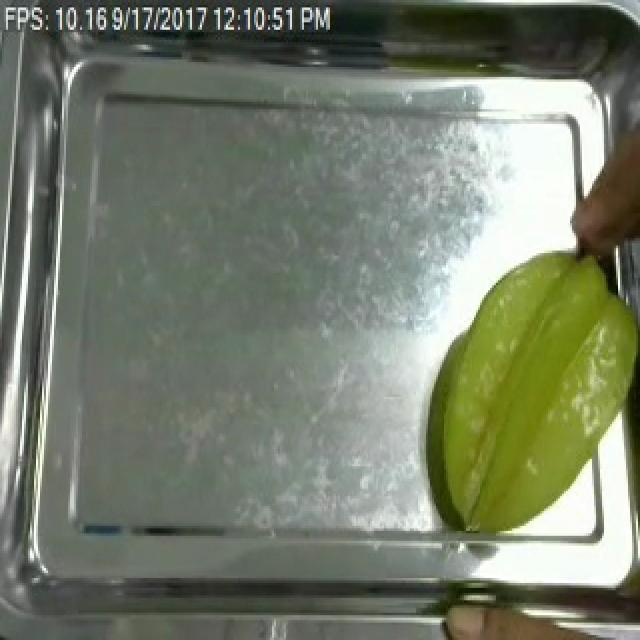fruit: (420, 238, 640, 543)
